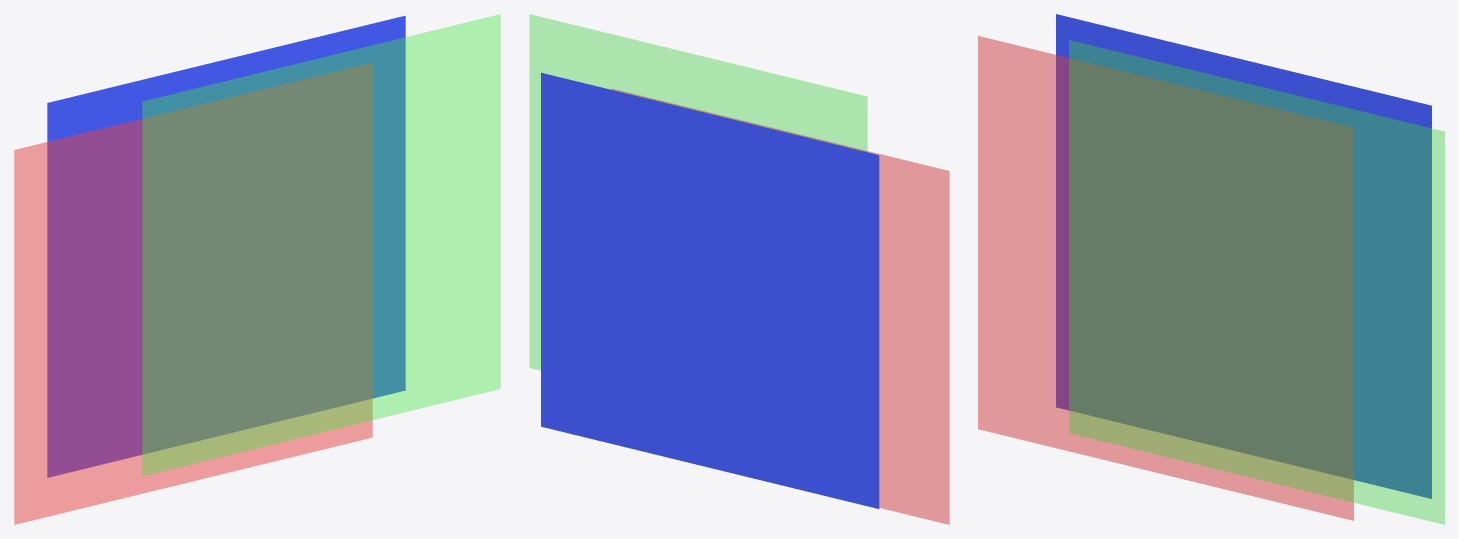
The model's file is glb-alpha-blend-overlaps.glb.
The picture shows the model from 3 angles, left to right: view 1: azimuth 30°, elevation 25°; view 2: azimuth 150°, elevation 25°; view 3: azimuth 330°, elevation 25°; orthographic projection. The views are drawn at different scales.
Bounding box in the file's own units: 2.6 × 2.2 × 0.4.
